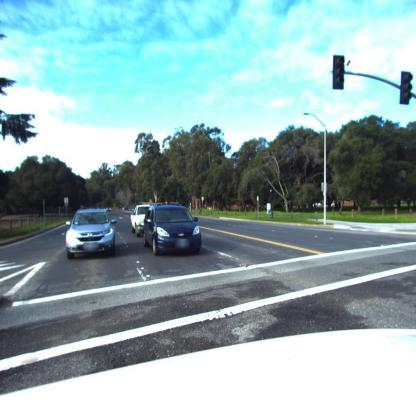car: (140, 202, 204, 256), (65, 209, 119, 259), (132, 204, 150, 235)
